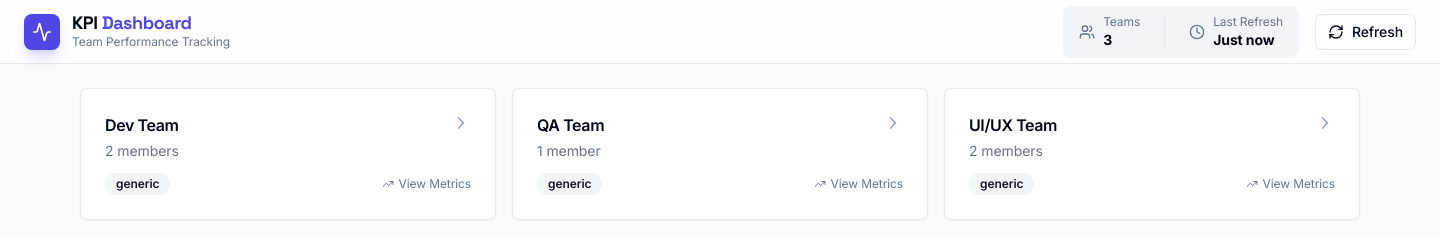
KPIDashboardPage › Loading States › displays refreshing state when refresh button is clicked
Expected: the text "Dev Team" is shown, x1=105 y1=115 x2=178 y2=135
Click the button "Refresh". click: (1365, 32)
box: x1=1315 y1=14 x2=1416 y2=50
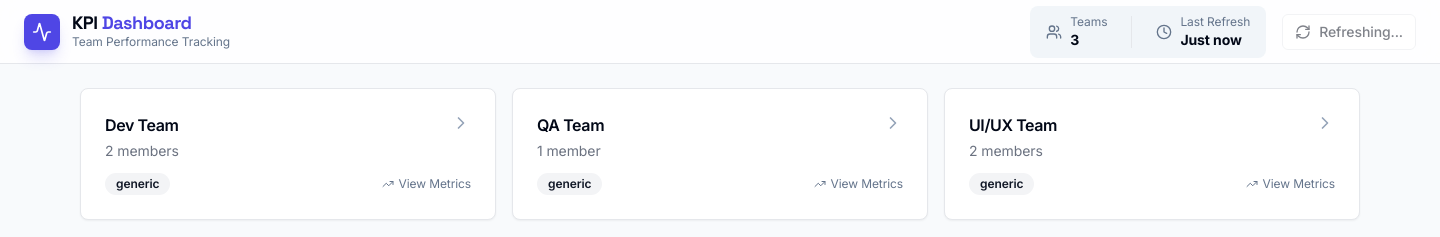
Result: the button "Refreshing..." is shown at x1=1282 y1=14 x2=1416 y2=50
